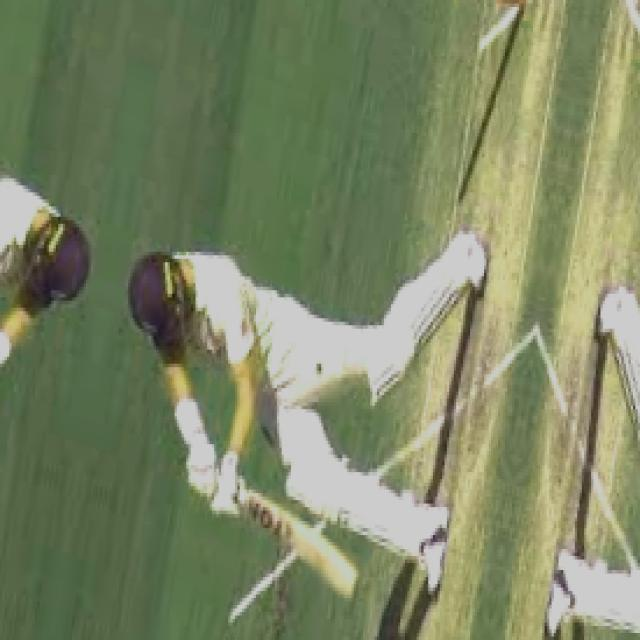toe: (317, 560, 370, 613)
